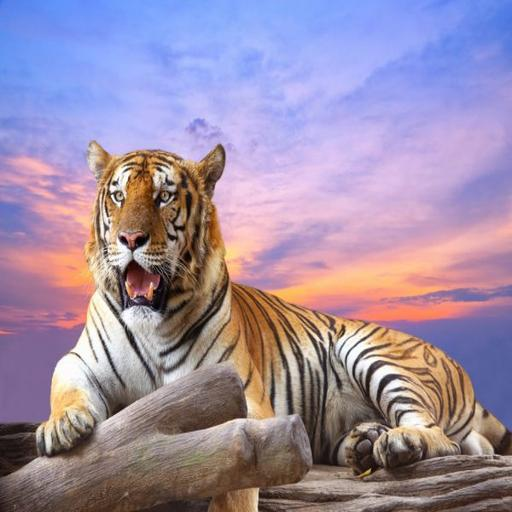Tiger: (27, 136, 512, 512)
